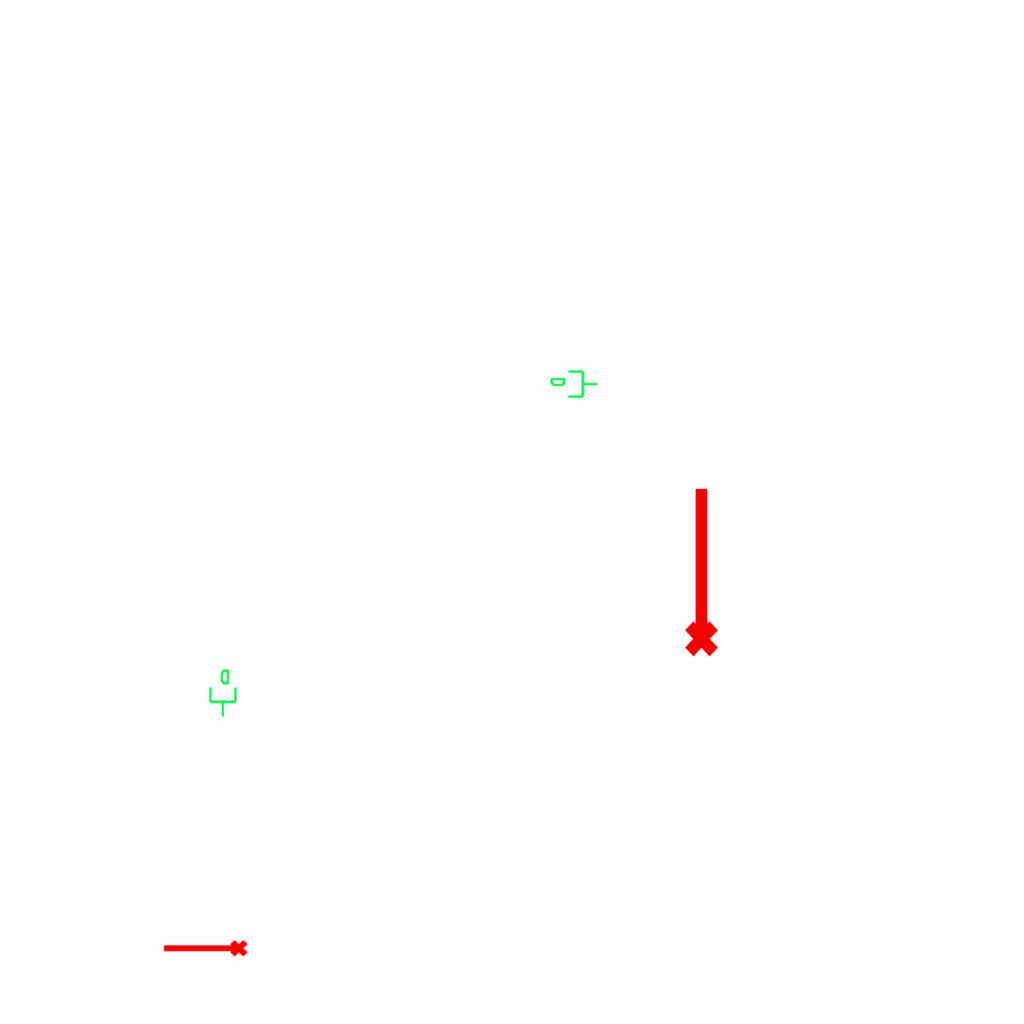ASR_Ansaugoeffnung: (676, 483, 722, 659), (161, 938, 249, 961)
Datenanschluss_einfach: (549, 368, 599, 402), (205, 668, 239, 718)
